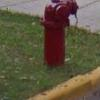Hydrant: (35, 0, 81, 71)
